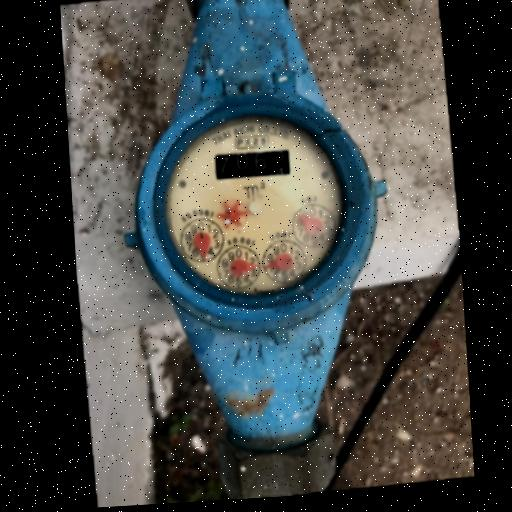0: (234, 154, 252, 178)
3: (271, 150, 290, 174)
6: (252, 152, 270, 176)
7: (215, 155, 234, 179)
border_water_meter_number: (215, 149, 290, 180)
